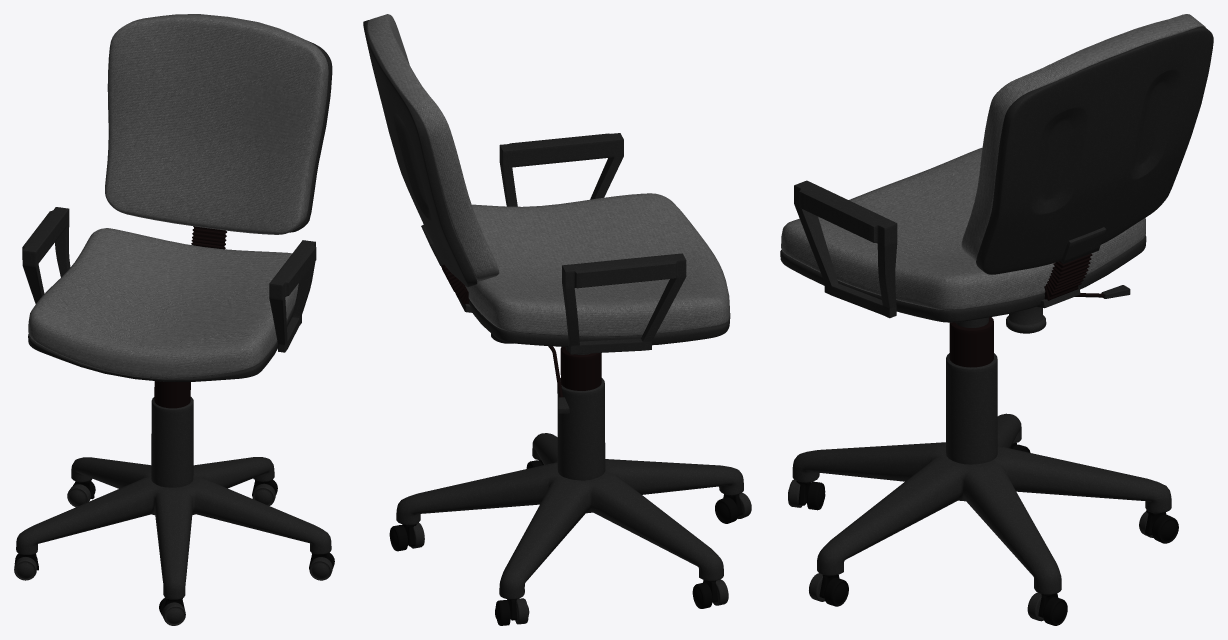
The model's file is Chair2.fbx.
3 renders of one model, left to right at view 1: azimuth 30°, elevation 25°; view 2: azimuth 150°, elevation 25°; view 3: azimuth 270°, elevation 25°, orthographic. The views are drawn at different scales.
Visible parts, largest first — view 1: Офисеый стул; view 2: Офисеый стул; view 3: Офисеый стул.
Boxes of the visible parts, bbox=[...] form: Офисеый стул: bbox=[14, 14, 334, 625]; Офисеый стул: bbox=[363, 14, 751, 625]; Офисеый стул: bbox=[780, 14, 1213, 625].
Bounding box in the file's own units: 579 × 808 × 553.
4 materials, 2 textured.
